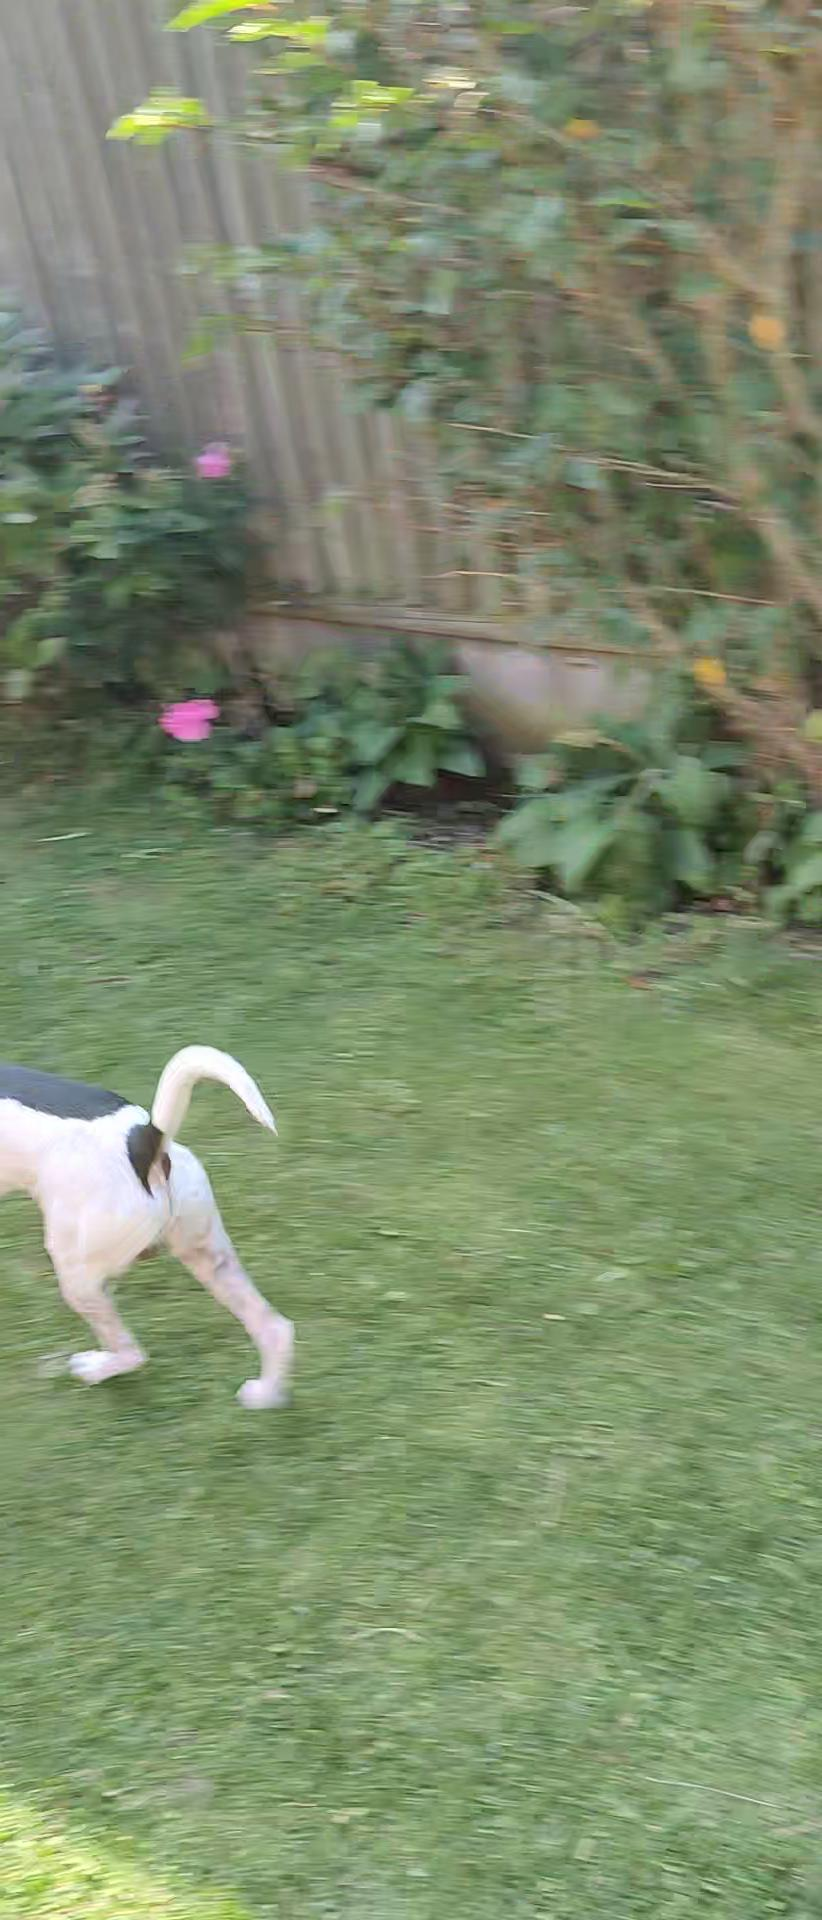Dog: (0, 1029, 319, 1431)
